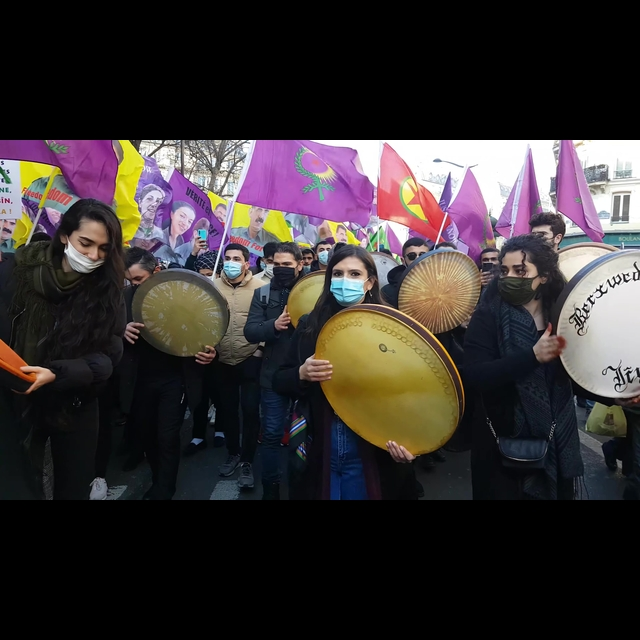APO: (244, 205, 270, 237)
PKK: (374, 142, 446, 233)
